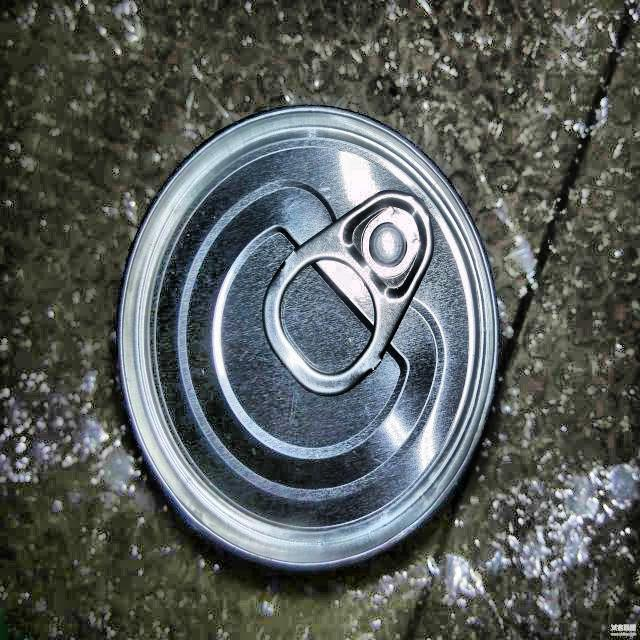can: (94, 90, 520, 582)
